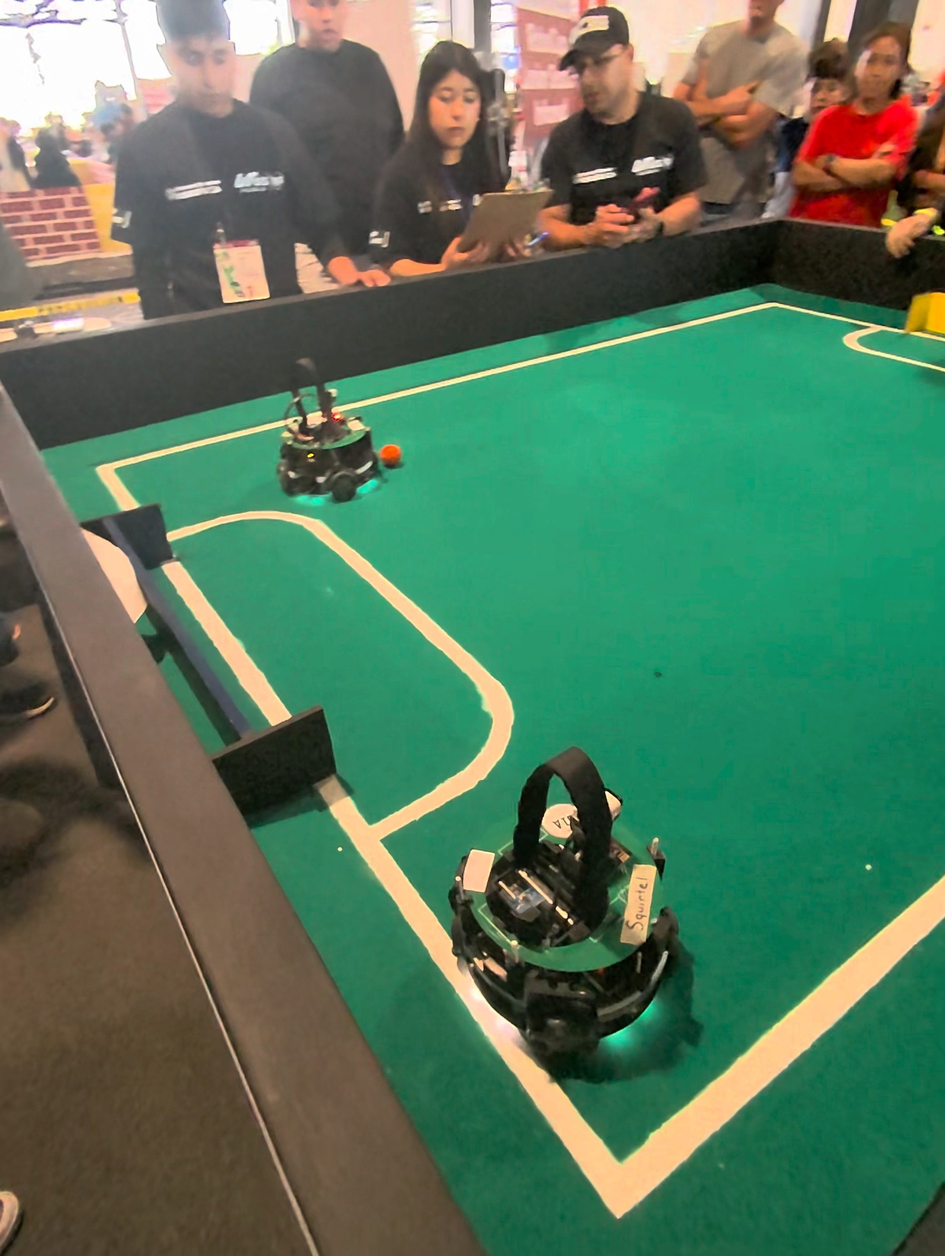Robot: (429, 734, 707, 1090), (272, 368, 392, 504)
pelota: (385, 441, 406, 461)
